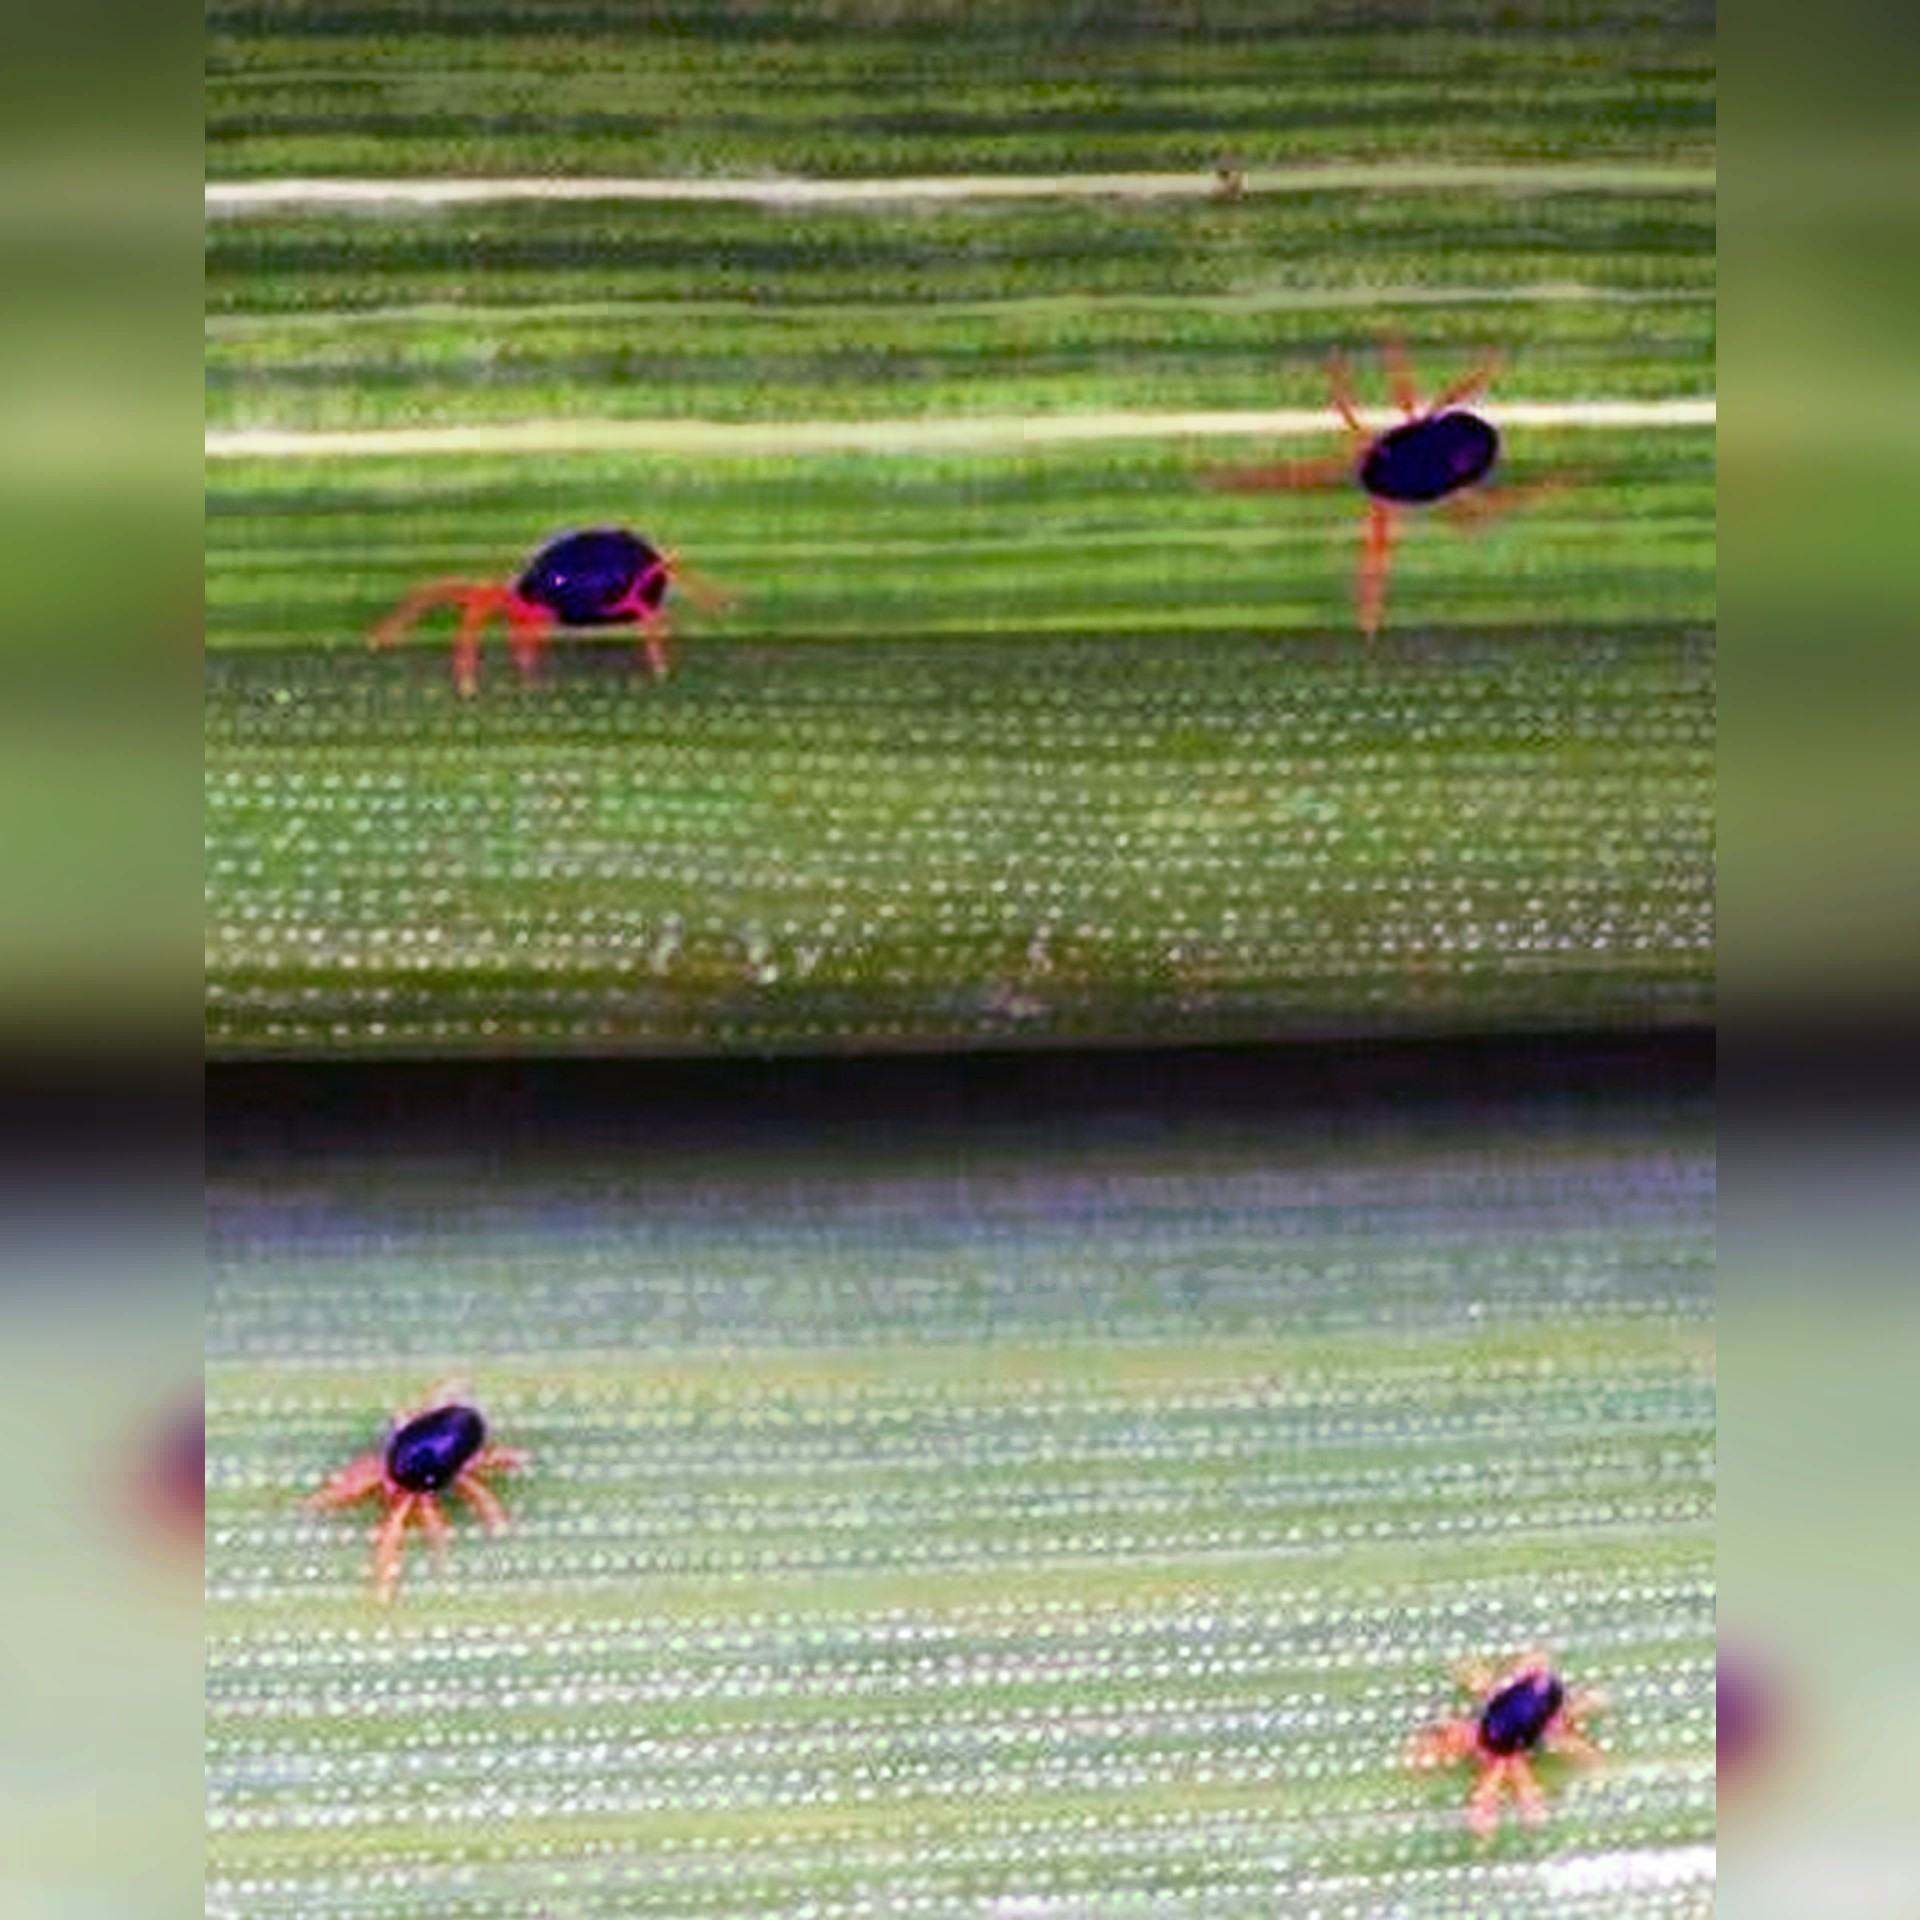Wheat Red Spider: (345, 482, 767, 740)
